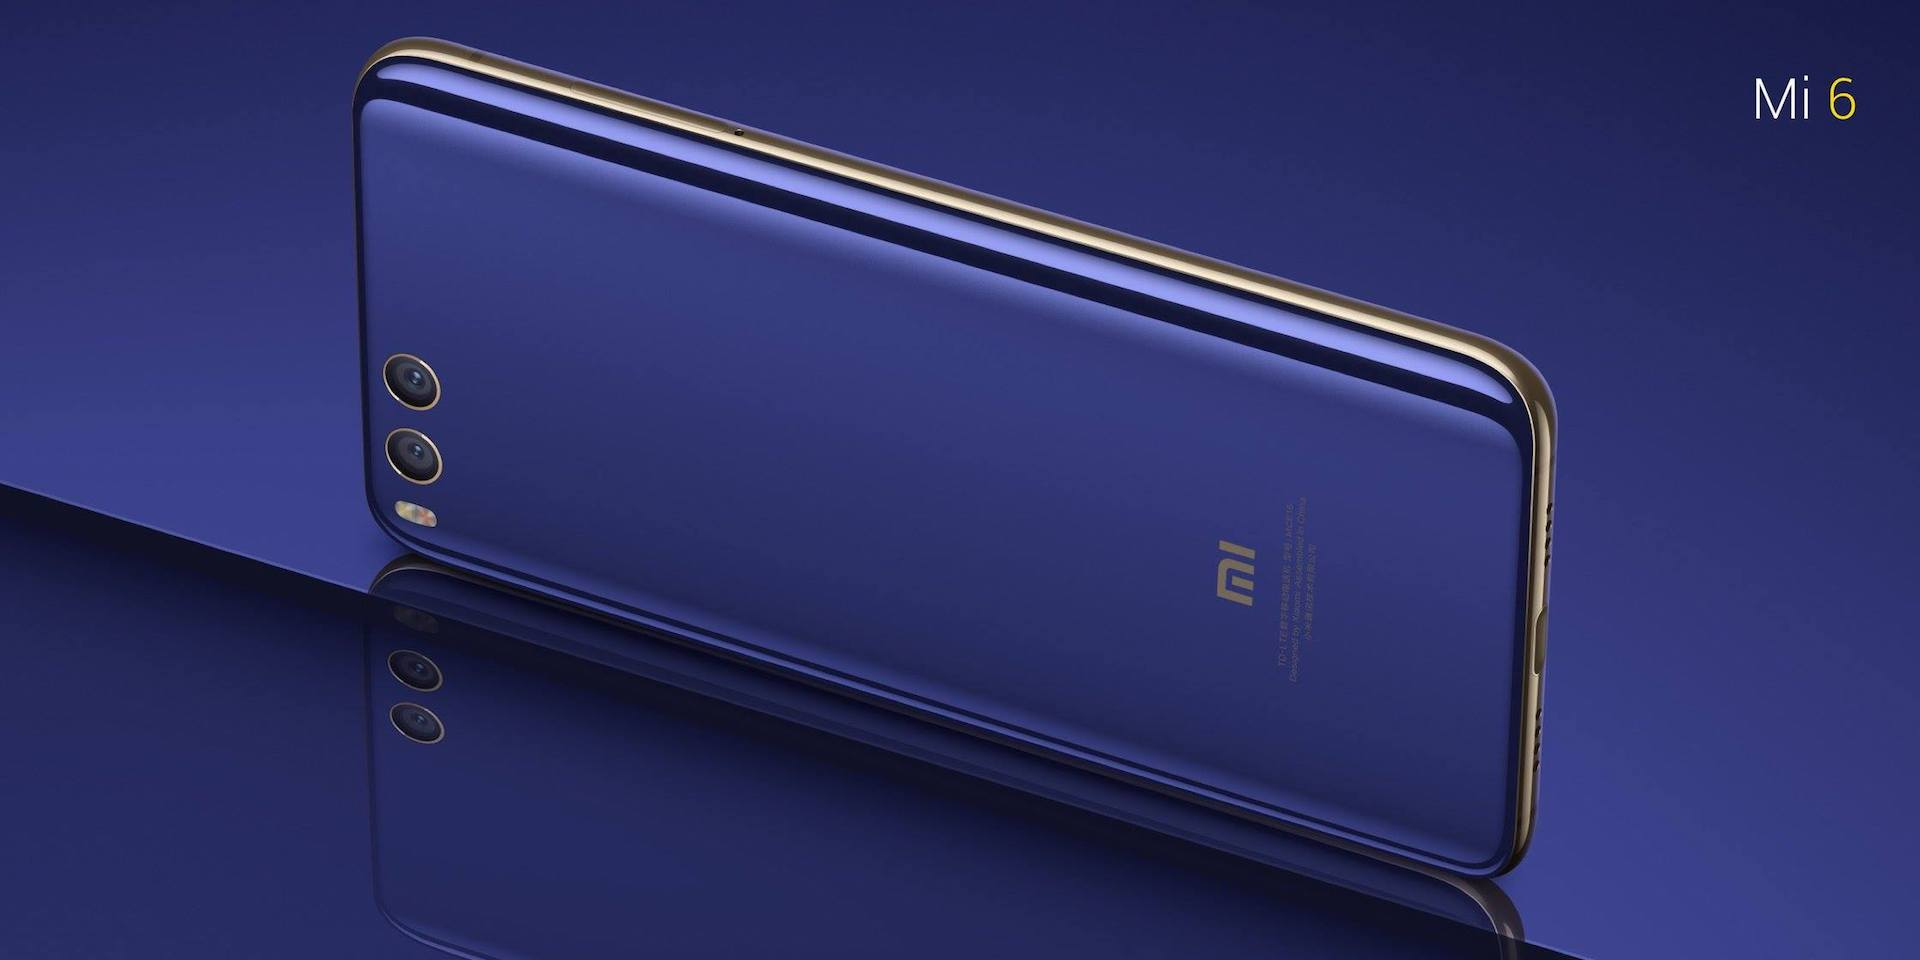smartphone: (348, 33, 1558, 889)
